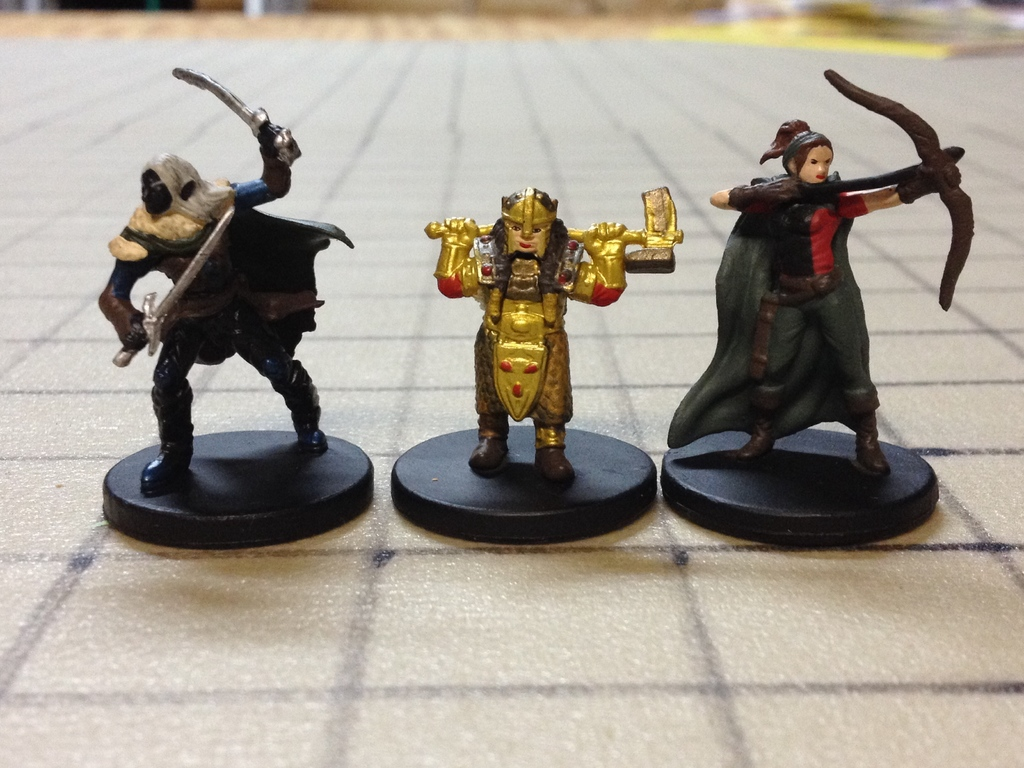Person: (667, 118, 960, 475), (96, 129, 354, 494), (433, 186, 628, 482)
